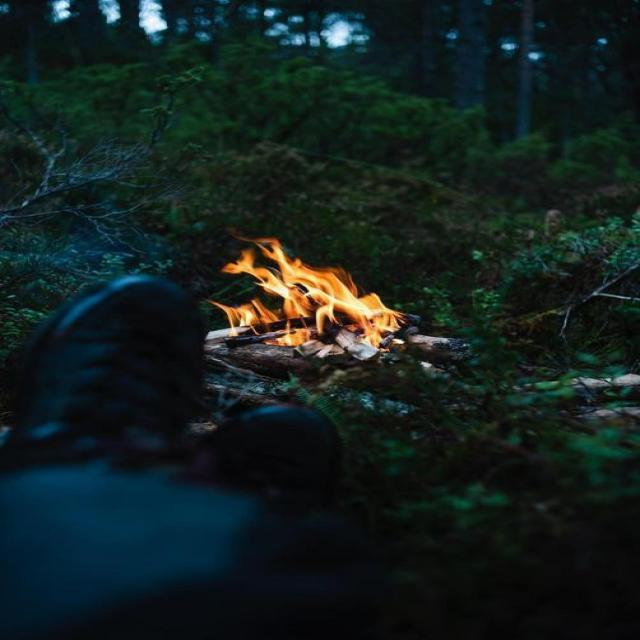Fire: (206, 235, 407, 361)
